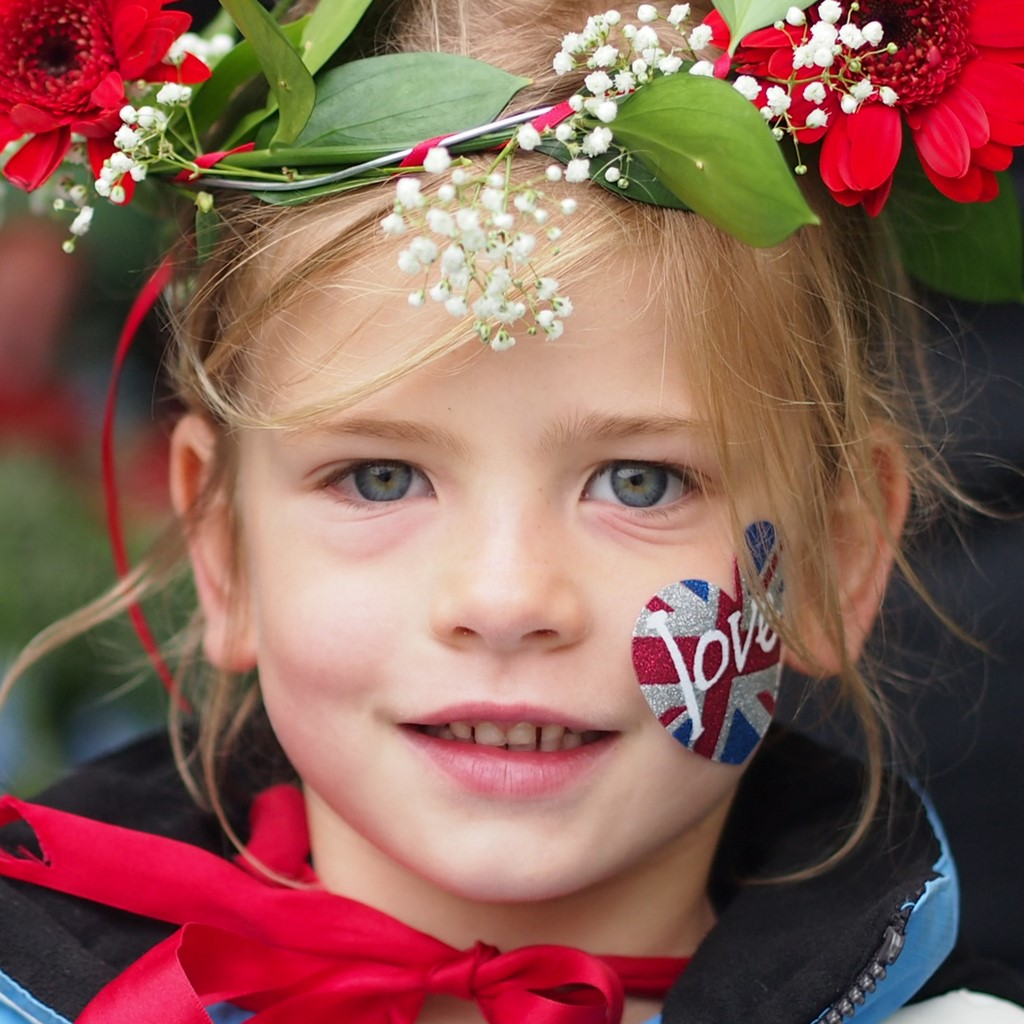sin_mascara: (190, 156, 876, 900)
